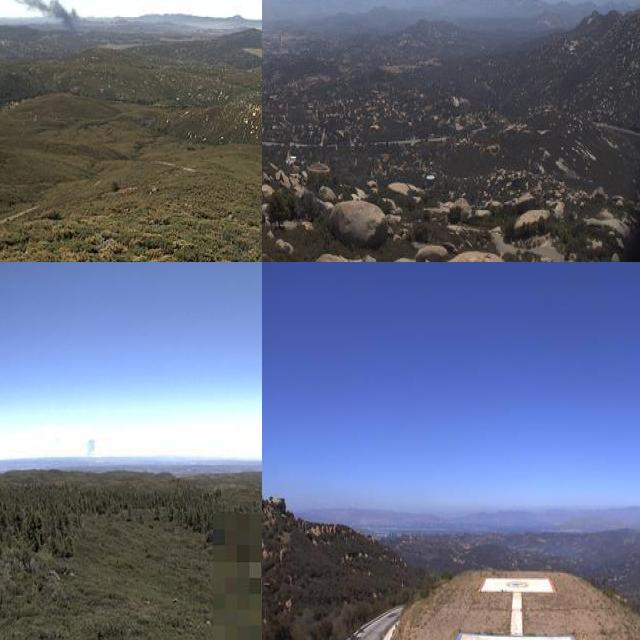smoke: (9, 0, 85, 35), (83, 434, 96, 461)
